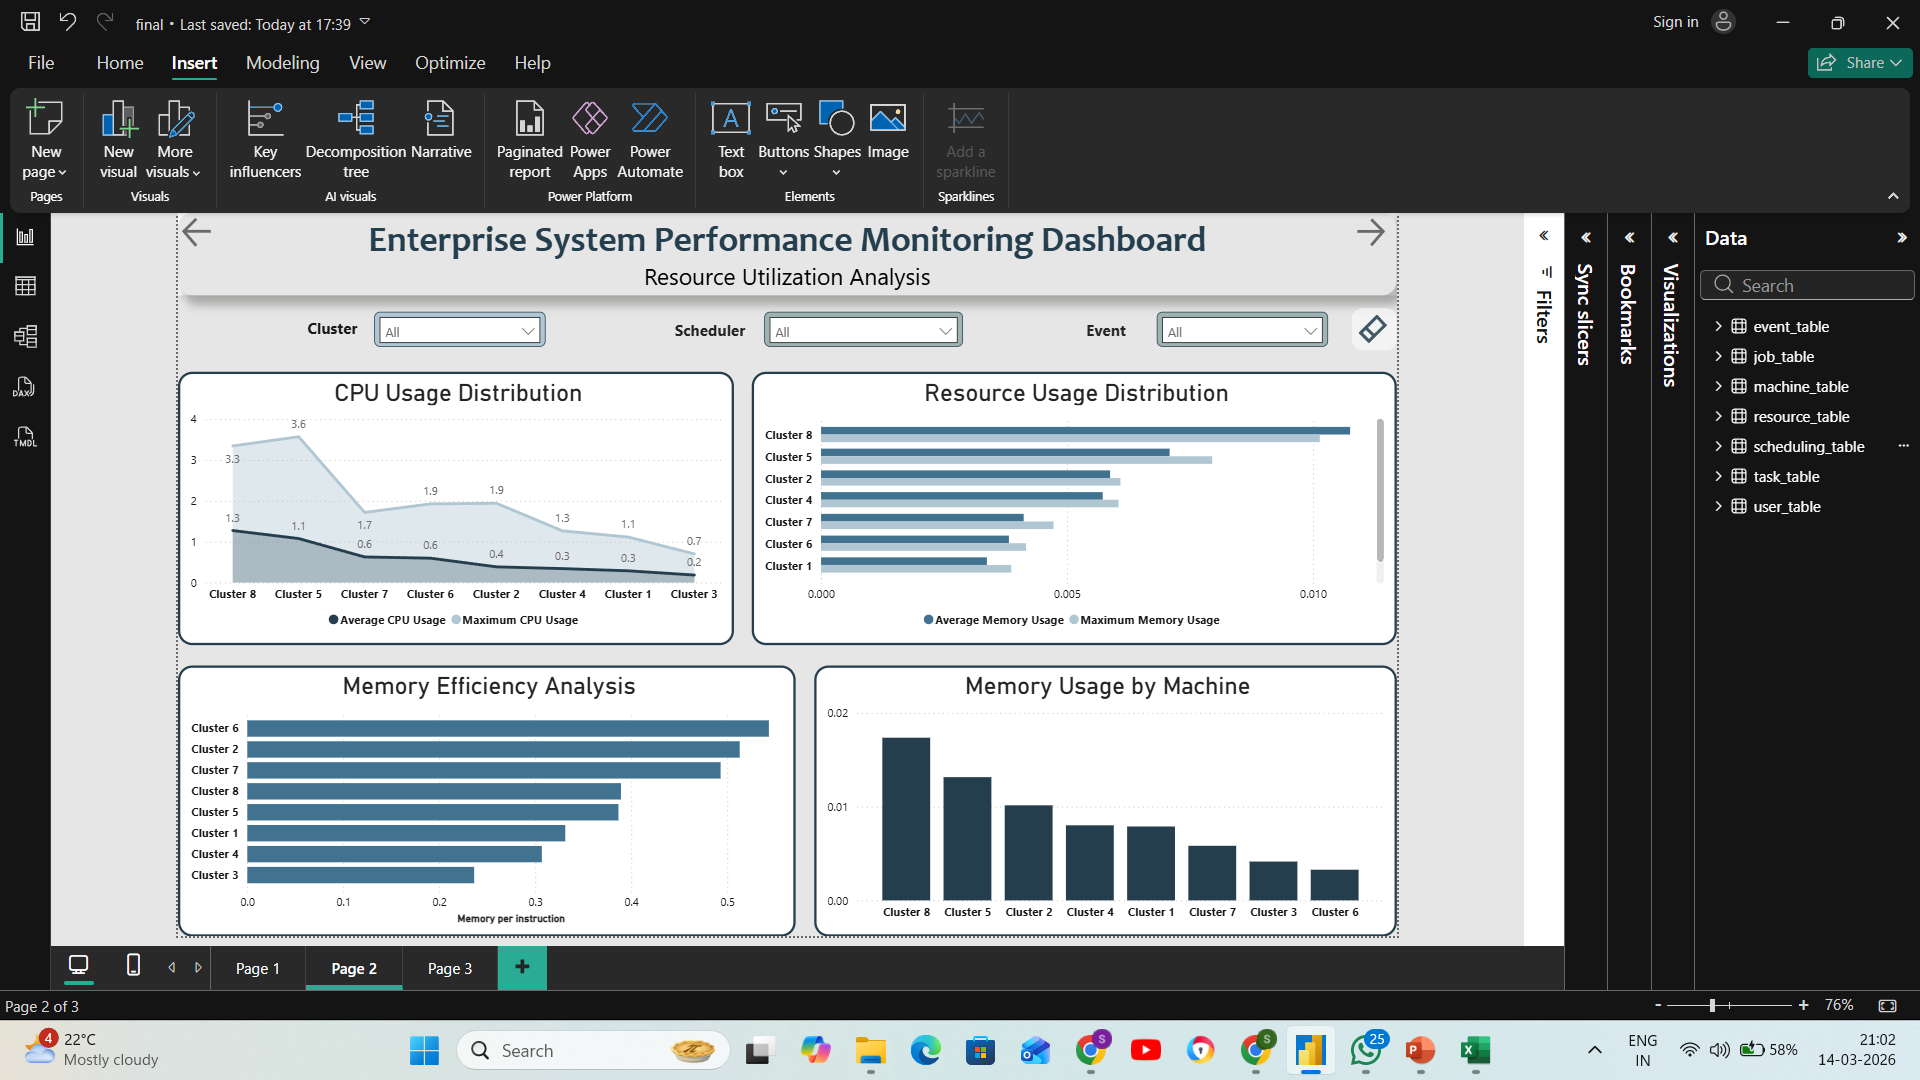

The page's visual inventory and layout, read from the dashboard file:
{"tool":"powerbi","page":{"name":"Page 2","canvas":[1280,760],"ordinal":1},"visuals":[{"type":"areaChart","title":"CPU Usage Distribution","fields":{"Category":["machine_table.cluster_Label"],"Y":["Sum(resource_table.avg_cpu_usage)","Sum(resource_table.max_cpu_usage)"]},"box":[0,166.8,584.3,287.6],"z":0},{"type":"clusteredColumnChart","title":"Memory Usage by Machine","fields":{"Y":["Avg(resource_table.assigned_memory)"],"Category":["machine_table.cluster_Label"]},"box":[668.4,475.3,611.9,284.9],"z":1000},{"type":"clusteredBarChart","title":"Memory Efficiency Analysis","fields":{"Category":["machine_table.cluster_Label"],"Y":["Sum(resource_table.memory_accesses_per_instruction)"]},"box":[0,475.3,648.7,284.9],"z":2000},{"type":"clusteredBarChart","title":"Resource Usage Distribution","fields":{"Y":["Avg(resource_table.avg_memory_usage)","Avg(resource_table.max_memory_usage)"],"Category":["machine_table.cluster_Label"]},"box":[602.7,166.8,677.5,287.6],"z":3000},{"type":"textbox","box":[0,0,1280,84.6],"z":4000},{"type":"textbox","box":[0,10.5,1280.2,76.2],"z":5000},{"type":"textbox","box":[0,0,1280.2,86.7],"z":6000},{"type":"slicer","title":"Cluster","fields":{"Values":["machine_table.cluster_Label"]},"box":[206.5,103.2,180,37],"z":7000},{"type":"textbox","box":[118.2,104.5,88.3,32.3],"z":8000},{"type":"textbox","box":[515,105.7,88.3,32.3],"z":9000},{"type":"slicer","title":"Cluster","fields":{"Values":["scheduling_table.Scheduler_Label"]},"box":[615.8,103.7,208.8,36.8],"z":10000},{"type":"textbox","box":[940.2,106.4,69.6,31.5],"z":11000},{"type":"slicer","title":"Cluster","fields":{"Values":["event_table.event"]},"box":[1028.8,103.2,180,37],"z":12000},{"type":"actionButton","box":[1233,99.8,47.3,44.6],"z":13000},{"type":"actionButton","box":[0,0,46.2,40.5],"z":14000},{"type":"actionButton","box":[1232.3,0,39,40.5],"z":14001}]}

Visuals, with their boxes on the page's 1280x760 design canvas (x1, y1, x2, y2). These are canvas units, not pixel positions in the 1920x1080 screenshot, which may show the page scaled, cropped or inside an application window:
"CPU Usage Distribution" areaChart: 0, 167, 584, 454
"Memory Usage by Machine" clusteredColumnChart: 668, 475, 1280, 760
"Memory Efficiency Analysis" clusteredBarChart: 0, 475, 649, 760
"Resource Usage Distribution" clusteredBarChart: 603, 167, 1280, 454
textbox: 0, 0, 1280, 85
textbox: 0, 10, 1280, 87
textbox: 0, 0, 1280, 87
"Cluster" slicer: 206, 103, 386, 140
textbox: 118, 104, 206, 137
textbox: 515, 106, 603, 138
"Cluster" slicer: 616, 104, 825, 140
textbox: 940, 106, 1010, 138
"Cluster" slicer: 1029, 103, 1209, 140
actionButton: 1233, 100, 1280, 144
actionButton: 0, 0, 46, 40
actionButton: 1232, 0, 1271, 40
